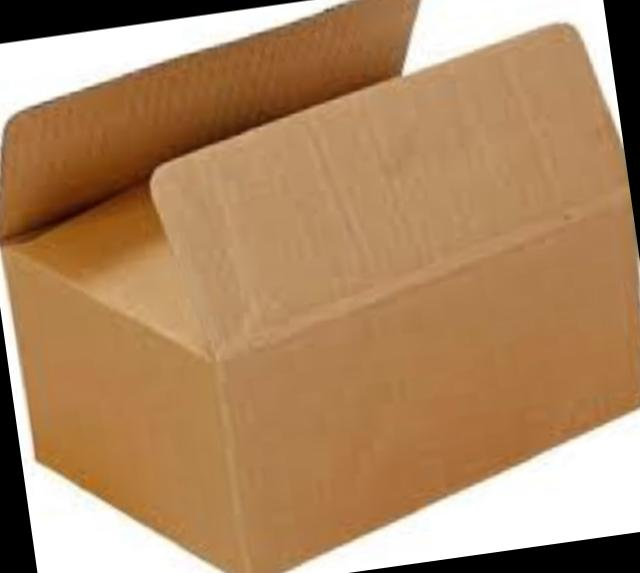cardboard paper: (0, 0, 637, 573)
